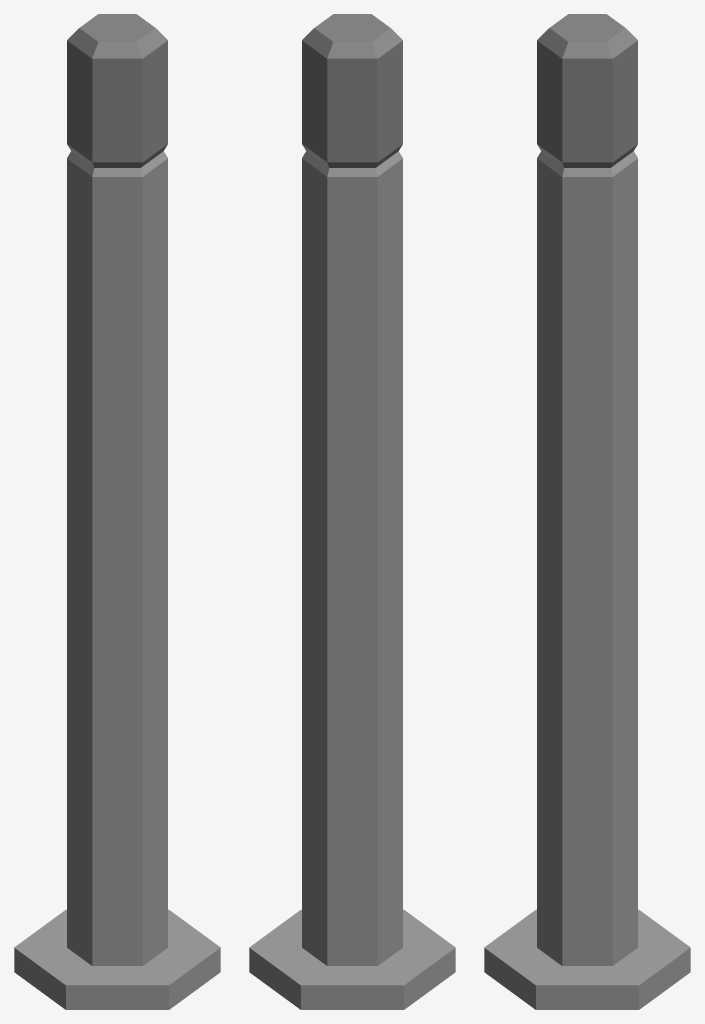
The model's file is SM_Props_Interior_Generic_BeltBarrier_Pole.fbx.
The picture shows the model from 3 angles, left to right: view 1: azimuth 30°, elevation 25°; view 2: azimuth 150°, elevation 25°; view 3: azimuth 270°, elevation 25°; orthographic projection.
Parts seen in each view (by area): view 1: SM_Props_Interior_Generic_BeltBarrier_Pole; view 2: SM_Props_Interior_Generic_BeltBarrier_Pole; view 3: SM_Props_Interior_Generic_BeltBarrier_Pole.
Part boxes in pixels (box(x1,y1,x2,y2)): SM_Props_Interior_Generic_BeltBarrier_Pole: box(14, 14, 220, 1009); SM_Props_Interior_Generic_BeltBarrier_Pole: box(249, 14, 455, 1009); SM_Props_Interior_Generic_BeltBarrier_Pole: box(484, 14, 690, 1009).
Size of the model in its own units: 19.75 by 115 by 22.81.
